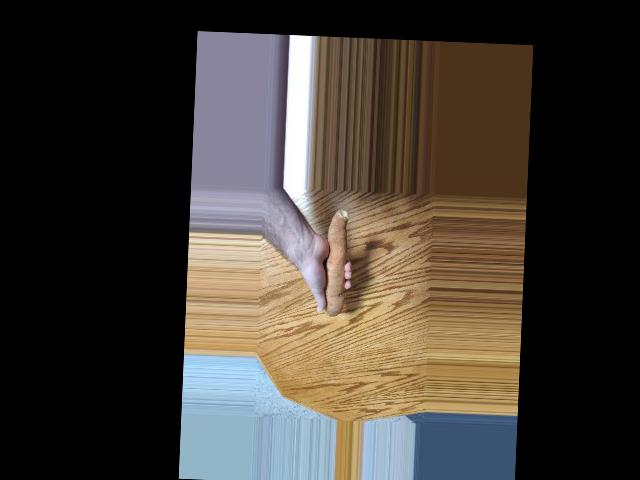sweet_potato: (312, 207, 349, 318)
